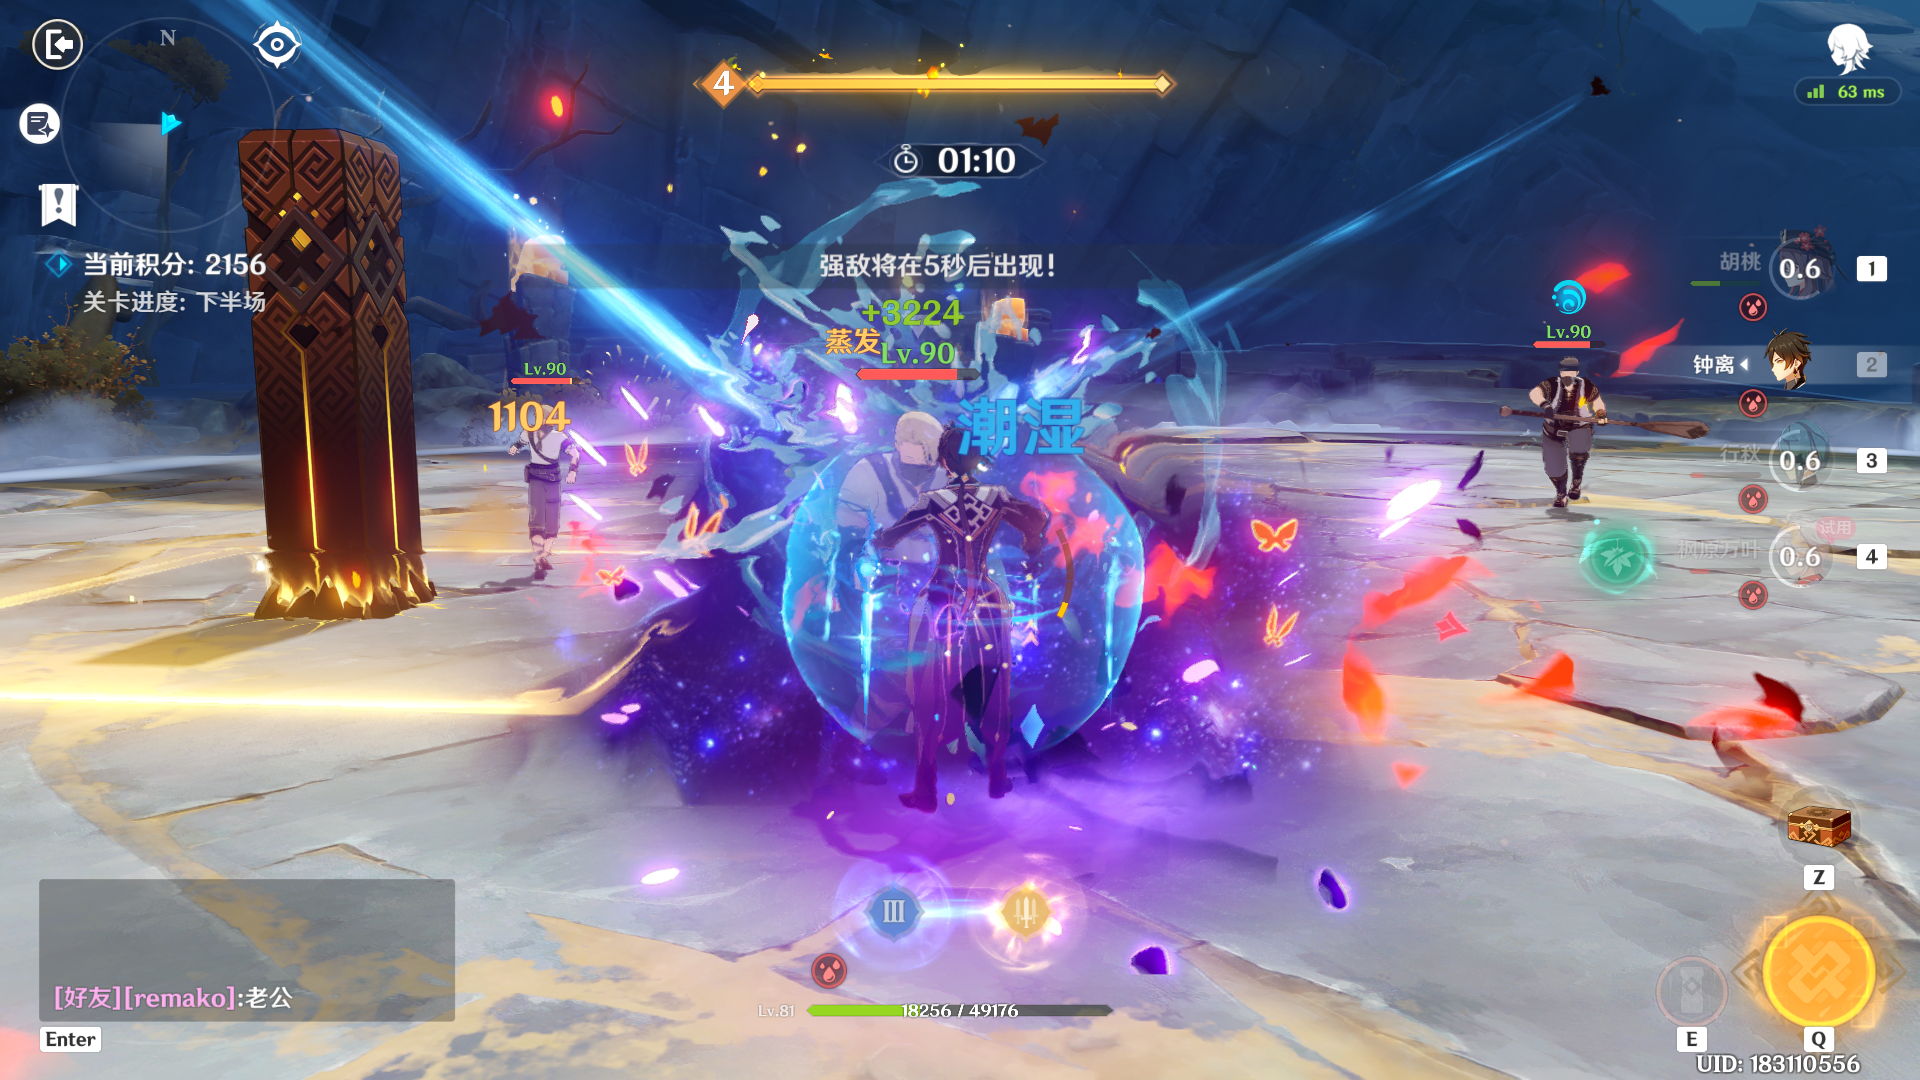character: (837, 392, 1097, 804)
robber: (1491, 338, 1669, 516), (469, 386, 615, 588)
